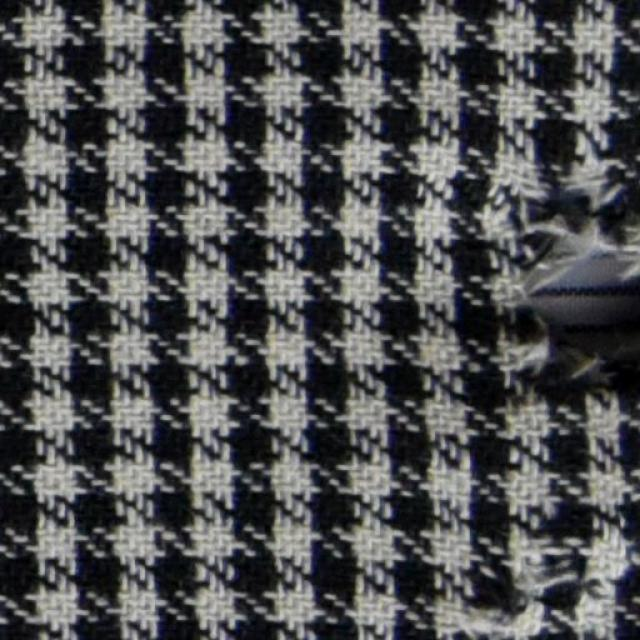Hole: (527, 246, 639, 379)
Snag: (454, 524, 623, 638), (489, 146, 622, 268)
